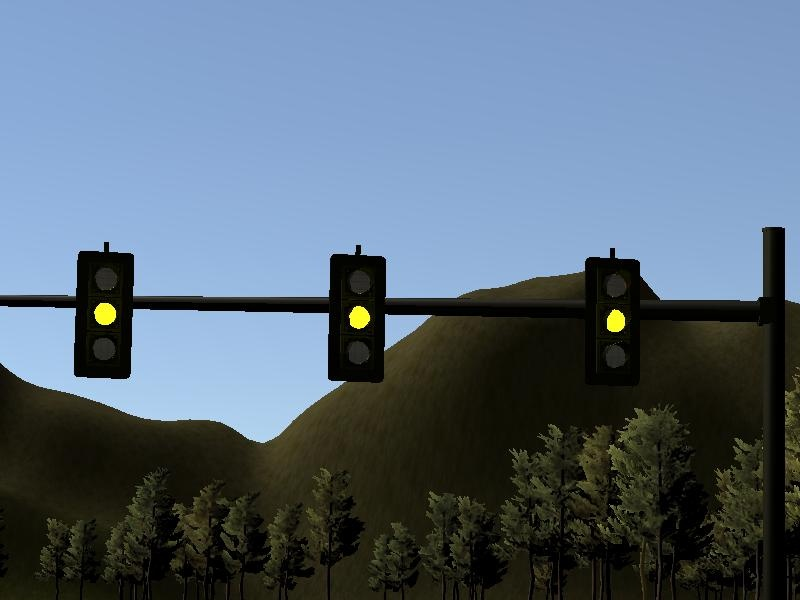yellow: (67, 237, 142, 386), (324, 242, 390, 390), (579, 244, 644, 392)
